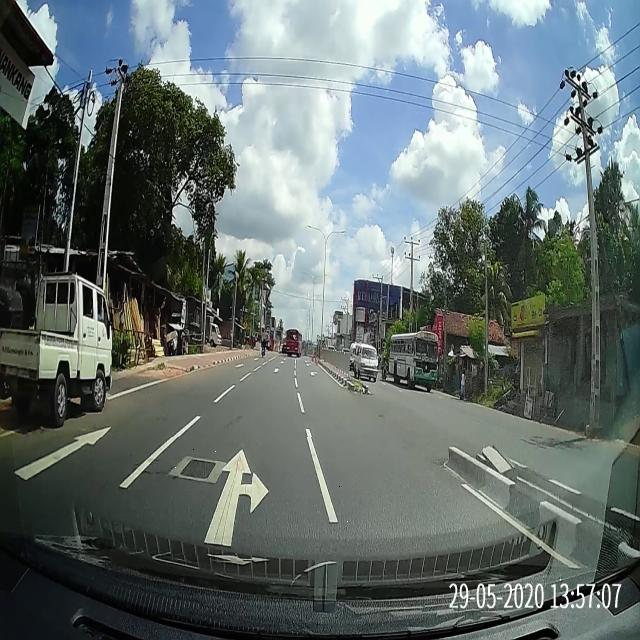forward_right: (82, 437, 355, 555), (81, 448, 355, 553), (79, 453, 357, 553), (80, 458, 355, 553)
